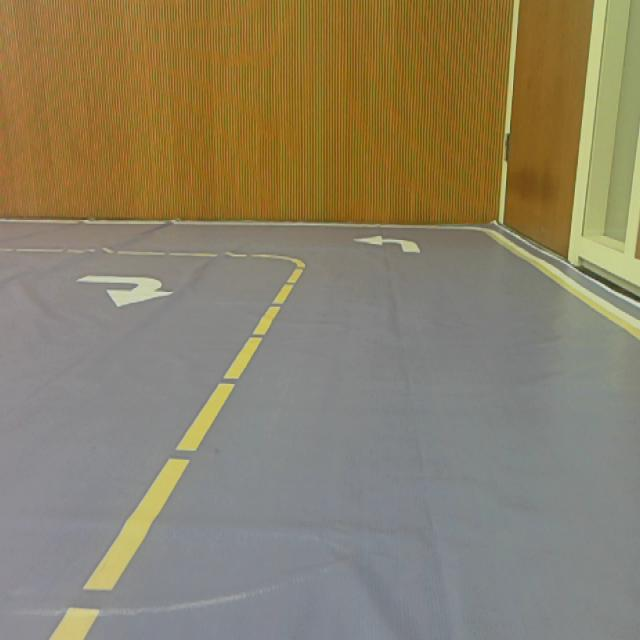left_lane: (46, 262, 305, 640)
right_lane: (484, 231, 640, 342)
